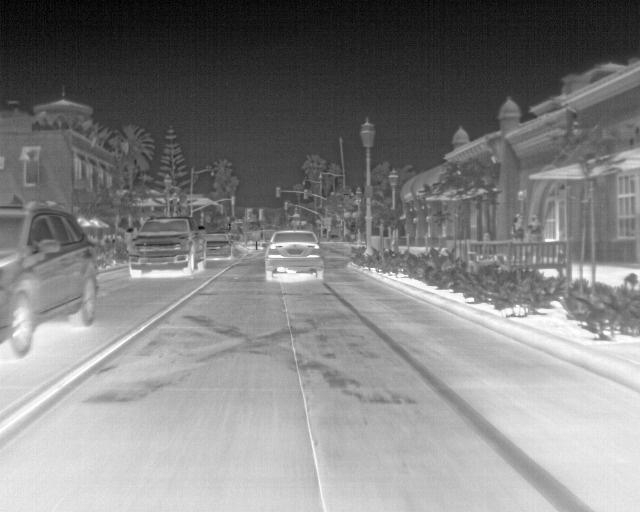bicycle: (2, 205, 100, 361), (126, 213, 206, 278), (261, 226, 326, 281), (201, 227, 233, 260)
